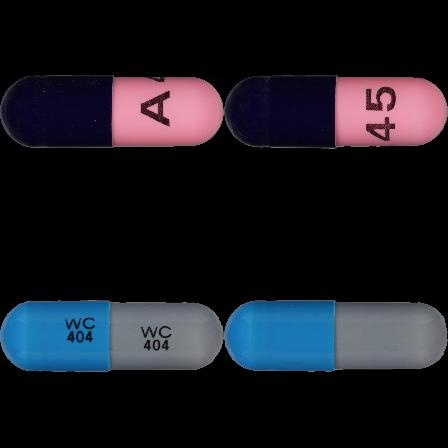66267-023: (0, 0, 224, 224)
